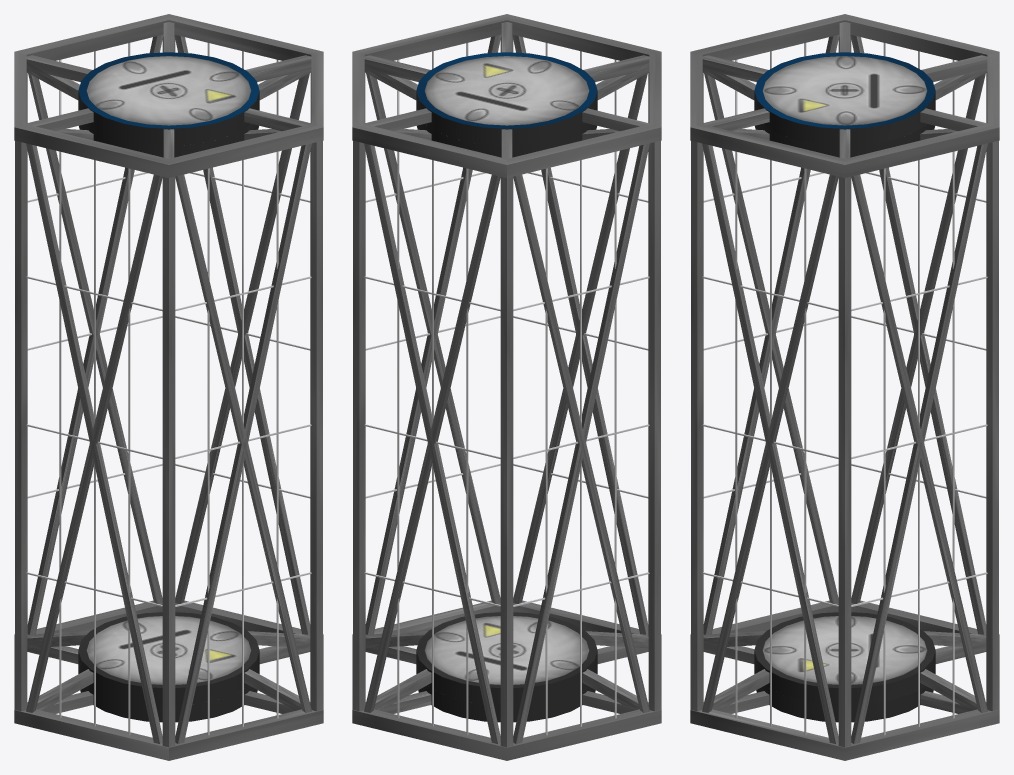
File: HexTruss.FBX
3 renders of one model, left to right at view 1: azimuth 30°, elevation 25°; view 2: azimuth 150°, elevation 25°; view 3: azimuth 270°, elevation 25°, orthographic.
Parts seen in each view (by area): view 1: EndCap007, EndCap012, EndBeam004, EndBeam005, Pole012, Pole011, Pole003, CrossBeam020, CrossBeam019, CrossBeam018, CrossBeam021, EndBeam003 (+30 smaller); view 2: EndCap007, EndCap012, EndBeam004, Pole004, Pole005, Pole003, CrossBeam013, CrossBeam023, EndBeam002, CrossBeam022, CrossBeam008, EndBeam008 (+30 smaller); view 3: EndCap007, EndBeam004, EndCap012, Pole006, Pole011, Pole005, CrossBeam016, CrossBeam015, EndBeam008, CrossBeam014, CrossBeam017, EndBeam005 (+28 smaller).
Boxes of the visible parts, x1,y1,x2,y2 form: EndCap007: [78, 52, 259, 145]; EndCap012: [78, 612, 259, 705]; EndBeam004: [14, 14, 323, 177]; EndBeam005: [14, 14, 323, 177]; Pole012: [162, 177, 175, 747]; Pole011: [310, 140, 322, 711]; Pole003: [15, 140, 27, 711]; CrossBeam020: [26, 143, 162, 743]; CrossBeam019: [175, 143, 311, 743]; CrossBeam018: [175, 174, 311, 712]; CrossBeam021: [26, 174, 162, 712]; EndBeam003: [16, 604, 323, 756]; EndCap007: [416, 52, 597, 145]; EndCap012: [416, 612, 597, 705]; EndBeam004: [352, 14, 661, 177]; Pole004: [500, 177, 513, 747]; Pole005: [353, 140, 365, 711]; Pole003: [648, 140, 660, 711]; CrossBeam013: [364, 143, 500, 743]; CrossBeam023: [513, 143, 649, 743]; EndBeam002: [352, 15, 661, 174]; CrossBeam022: [513, 174, 649, 712]; CrossBeam008: [364, 174, 500, 712]; EndBeam008: [352, 604, 661, 758]; EndCap007: [754, 52, 935, 145]; EndBeam004: [690, 14, 999, 177]; EndCap012: [754, 612, 935, 705]; Pole006: [838, 177, 851, 747]; Pole011: [691, 140, 703, 711]; Pole005: [986, 140, 998, 711]; CrossBeam016: [702, 143, 838, 743]; CrossBeam015: [851, 143, 987, 743]; EndBeam008: [690, 600, 999, 760]; CrossBeam014: [851, 174, 987, 712]; CrossBeam017: [702, 174, 838, 712]; EndBeam005: [690, 14, 996, 174].
Size of what is drawn, in the model's own units: 2.46 by 4.53 by 2.13.
1 material, 1 textured.
